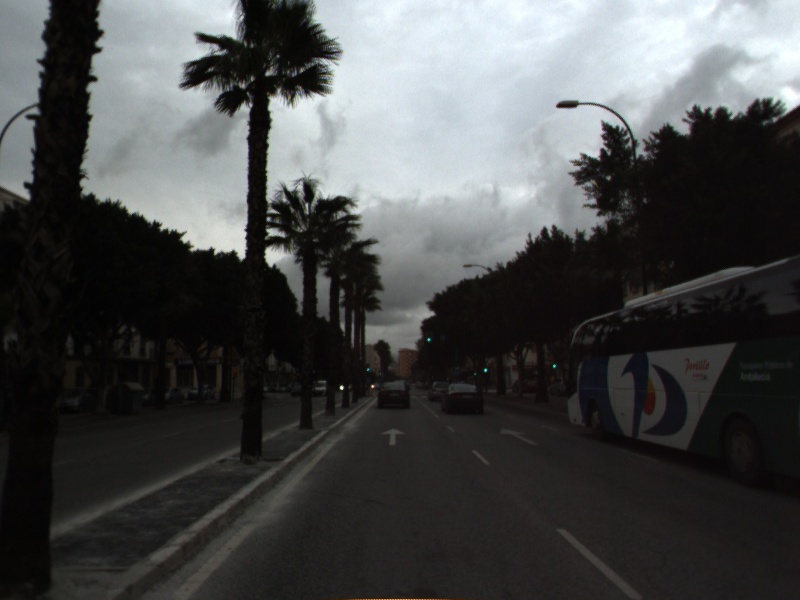STRAIGHT: (497, 426, 540, 448), (379, 425, 408, 448)
